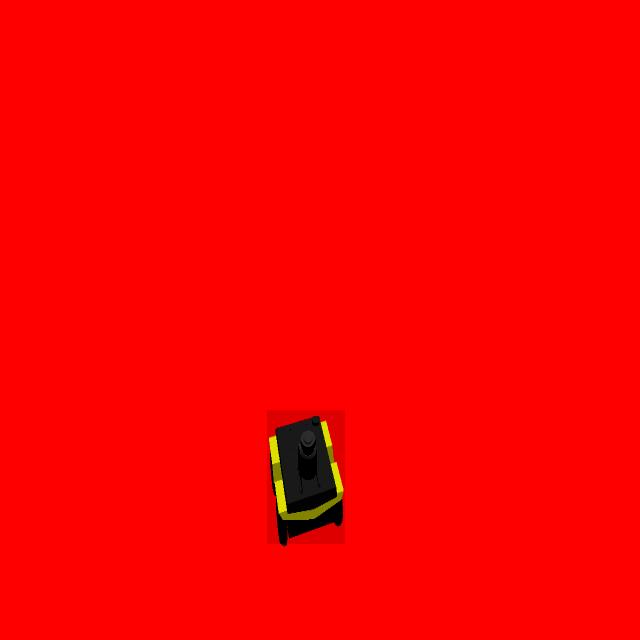jackal: (268, 410, 346, 544)
